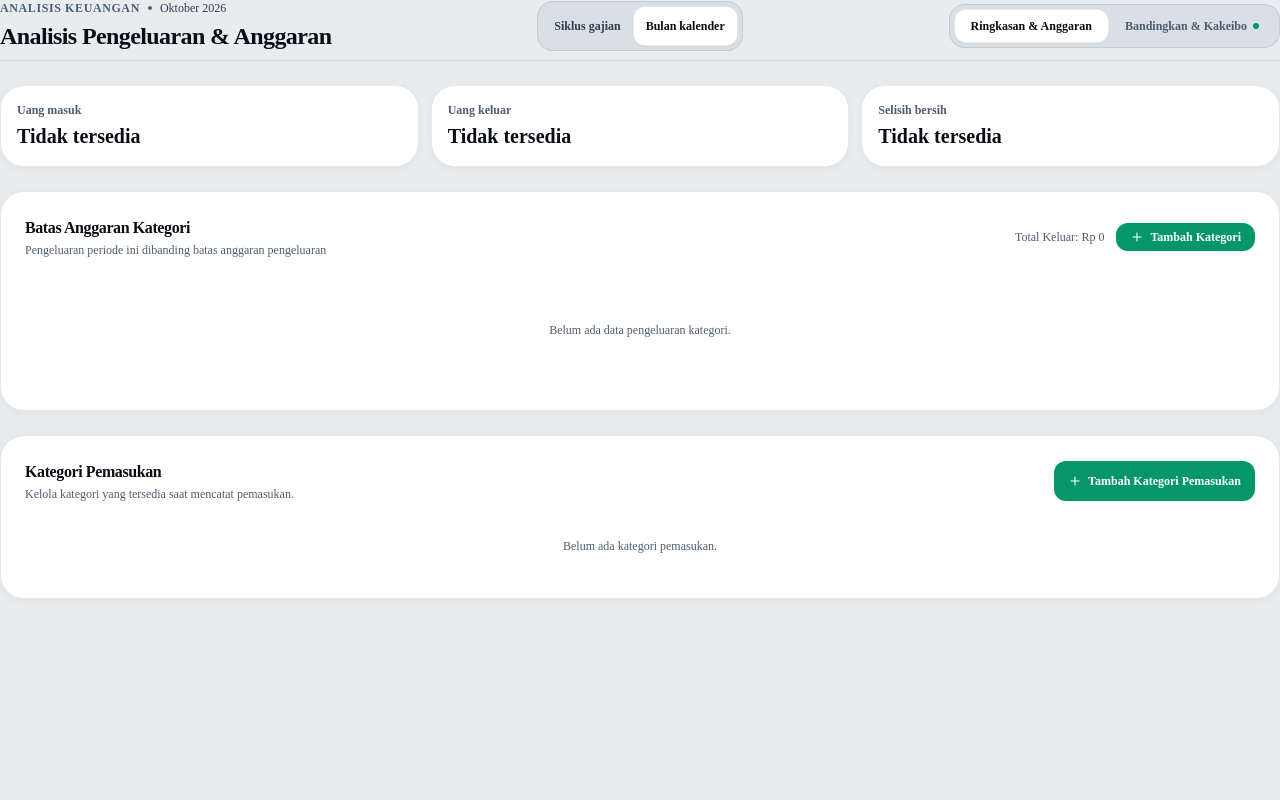
observed insights › lists cash flow per period with the current one in progress
Click the button "Bandingkan & Kakeibo".
click(1192, 26)  # box [1109, 10, 1275, 42]
(page scrolled)
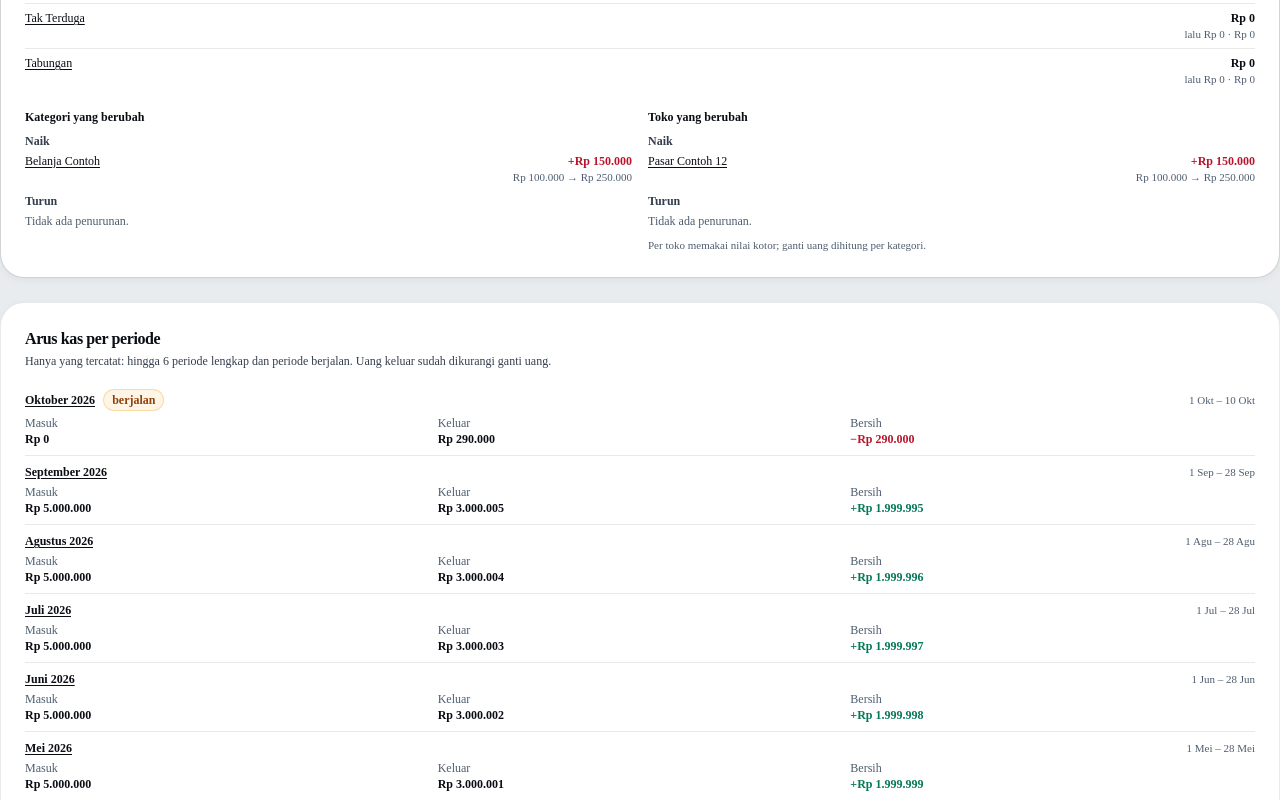
Check: the text "berjalan" is shown, box [103, 389, 164, 411]
